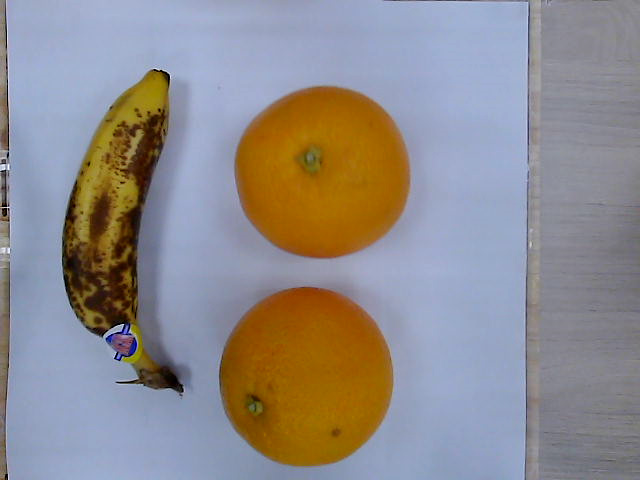fresh_orange: (219, 288, 395, 466), (235, 86, 411, 259)
rotten_banana: (62, 69, 188, 398)
